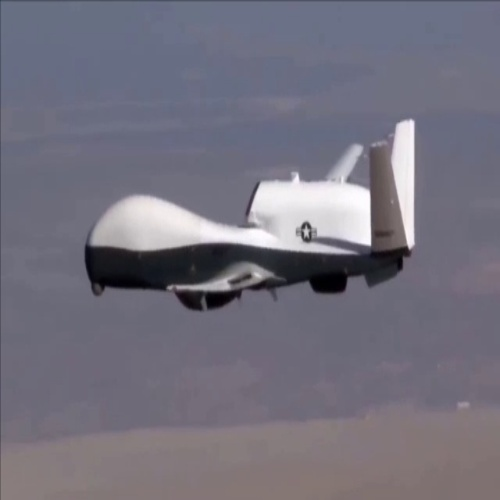uav1000: (79, 109, 422, 316)
